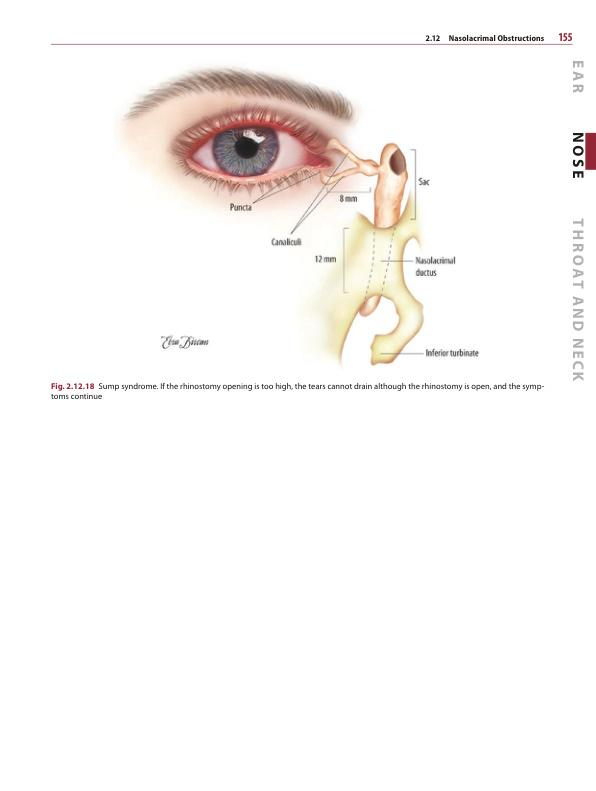caption: (49, 381, 545, 401)
header: (424, 34, 545, 43)
image: (103, 52, 498, 377)
